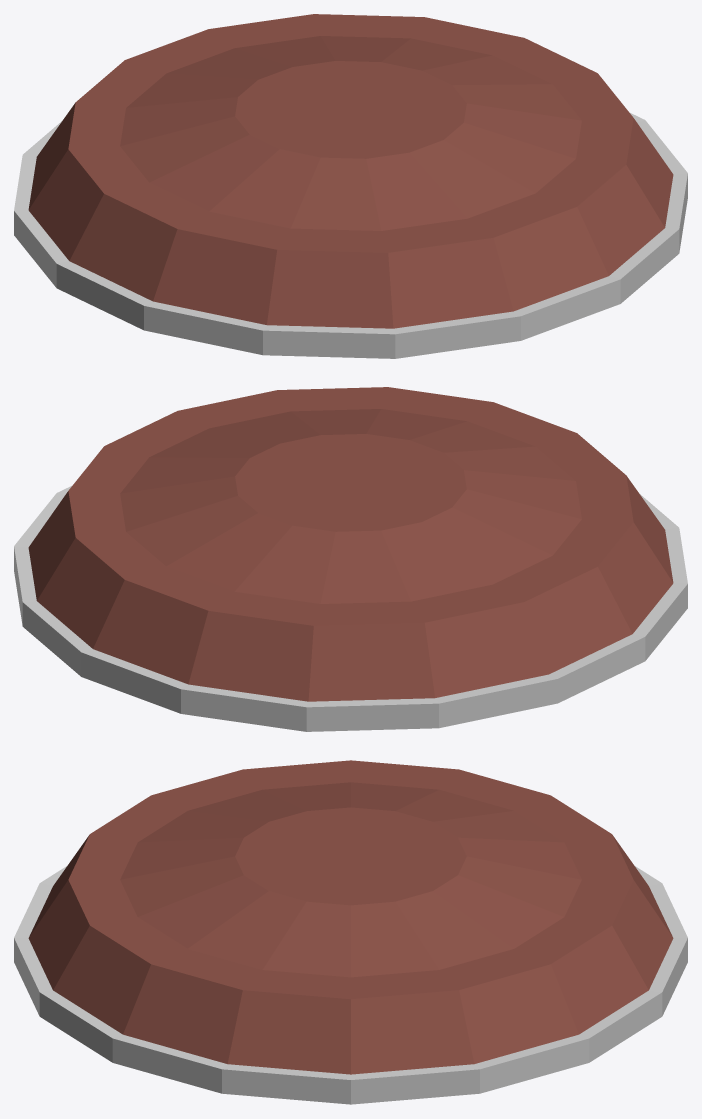
The model's file is Shield_5_b_r.fbx.
3 views of the same model, one above another, from view 1: azimuth 30°, elevation 25°; view 2: azimuth 150°, elevation 25°; view 3: azimuth 270°, elevation 25° (orthographic).
Visible parts, largest first — view 1: Circle.250, Circle.249; view 2: Circle.250, Circle.249; view 3: Circle.250, Circle.249.
Boxes of the visible parts, left/top/right/bottom form: Circle.250: left=28, top=14, right=673, bottom=328; Circle.249: left=14, top=112, right=687, bottom=358; Circle.250: left=28, top=387, right=673, bottom=701; Circle.249: left=14, top=485, right=687, bottom=731; Circle.250: left=28, top=760, right=673, bottom=1074; Circle.249: left=14, top=866, right=687, bottom=1104.
Size of the model in its own units: 52.25 by 15.06 by 52.25.
